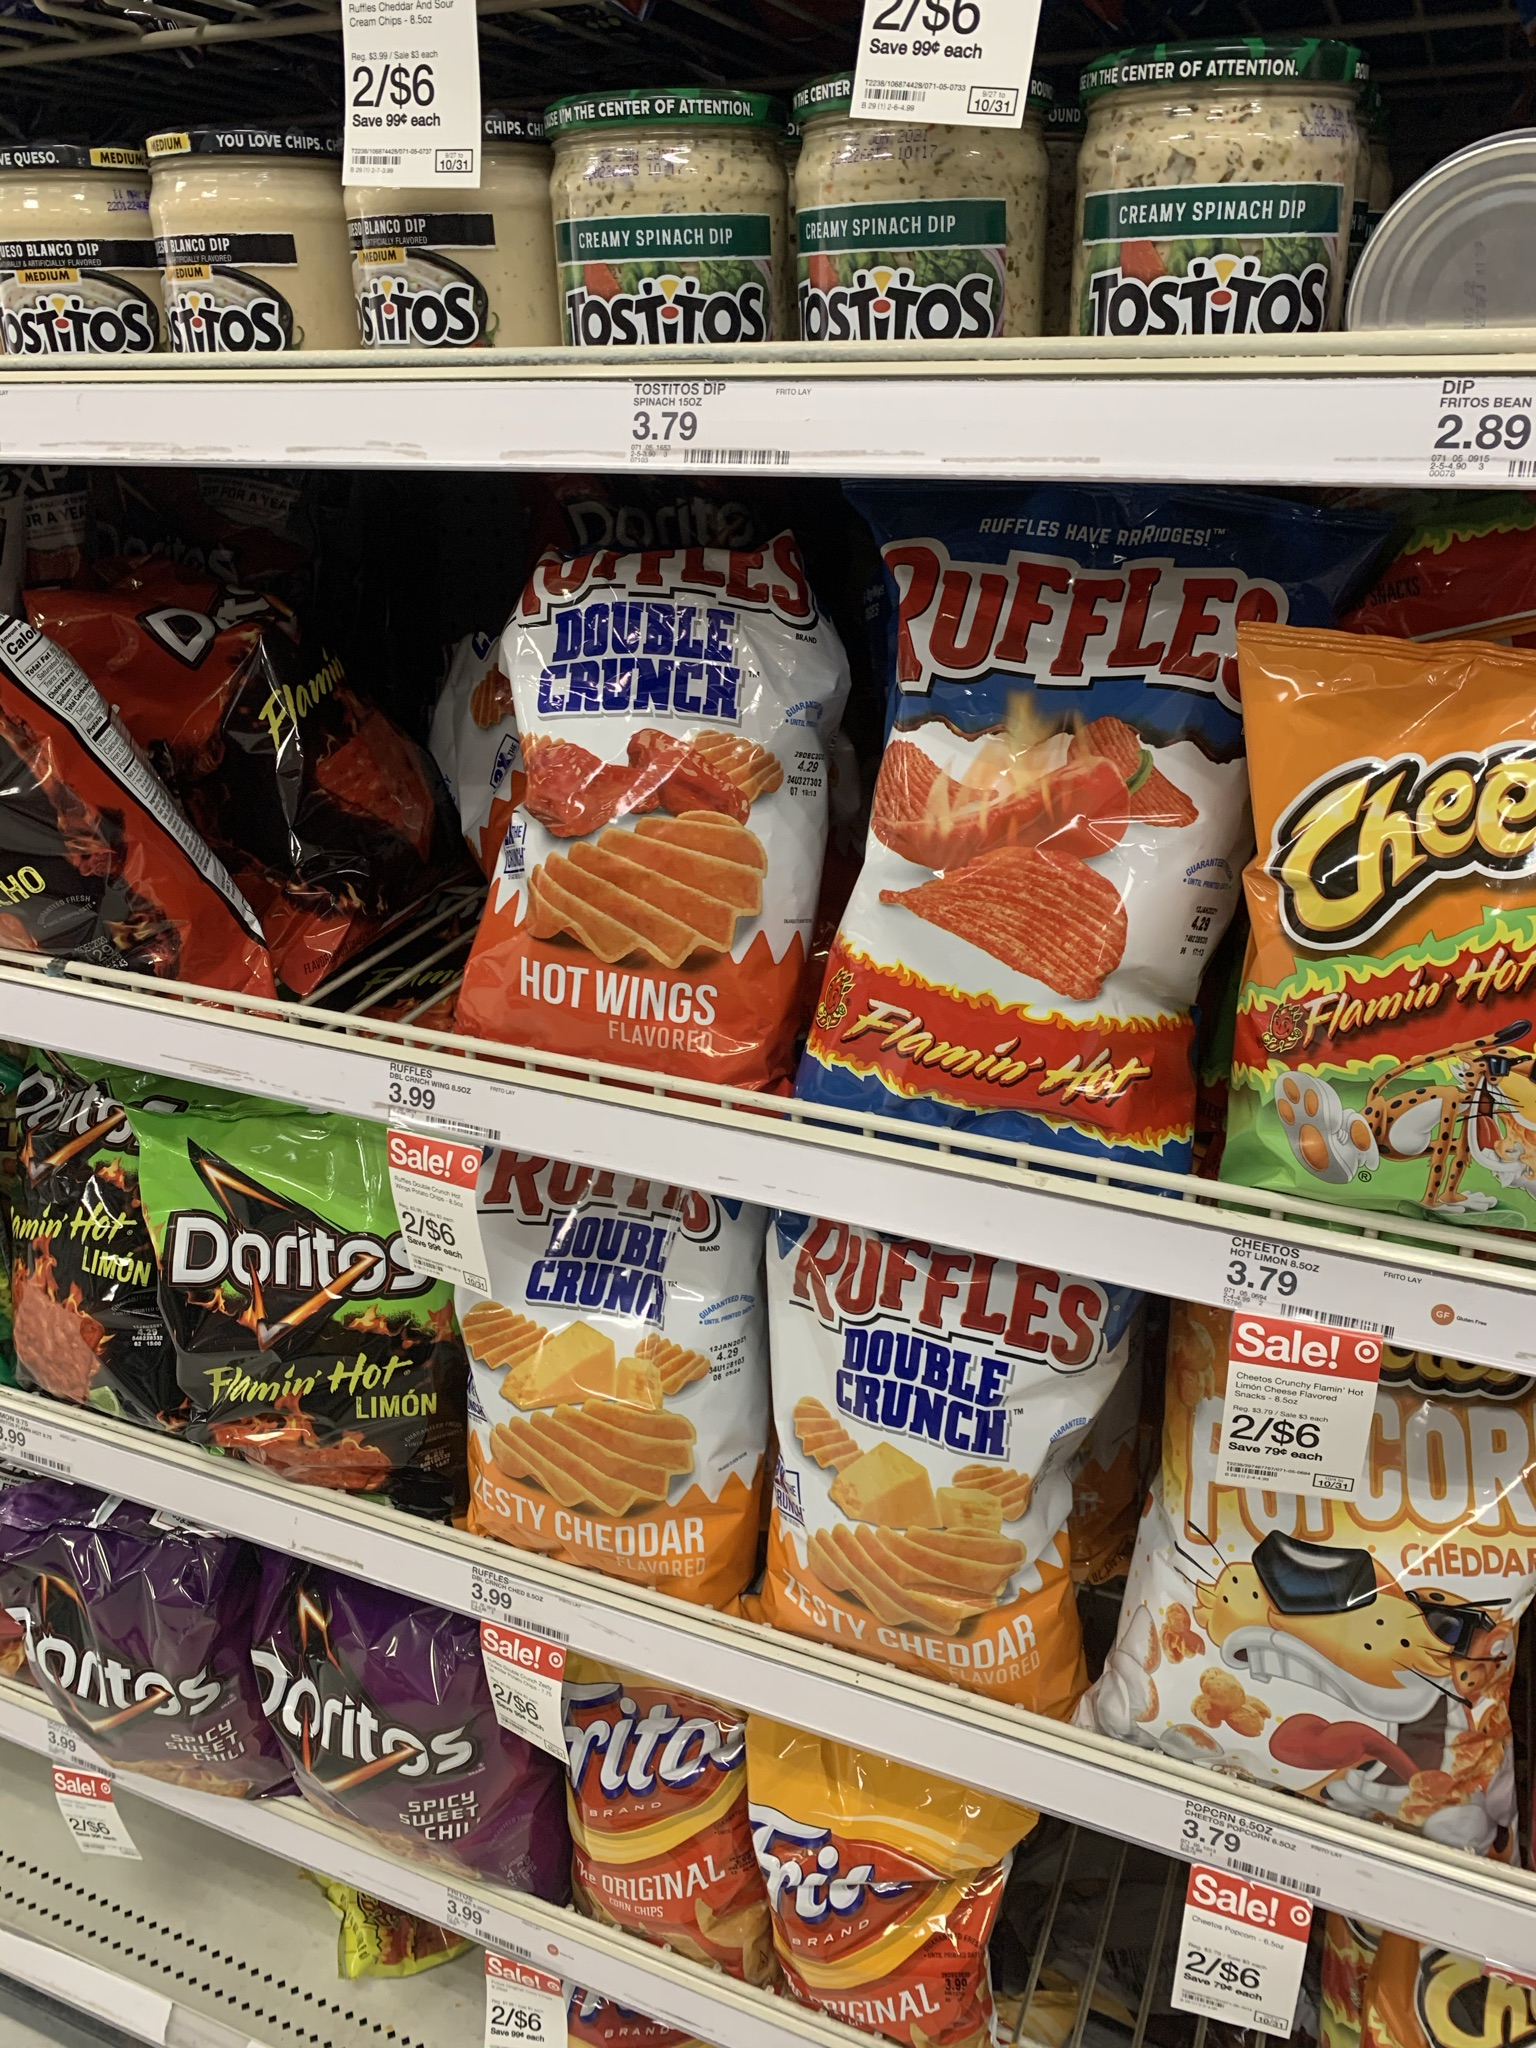cheetos: (1275, 643, 1507, 1235)
doritos: (157, 1130, 465, 1493), (269, 1587, 561, 1895), (42, 1506, 278, 1796)
frito: (565, 1675, 757, 1980)
fritos: (699, 1729, 1016, 2048)
ruffles: (902, 540, 1226, 1130), (779, 1221, 1087, 1692), (499, 1155, 752, 1630), (566, 579, 758, 1101)
